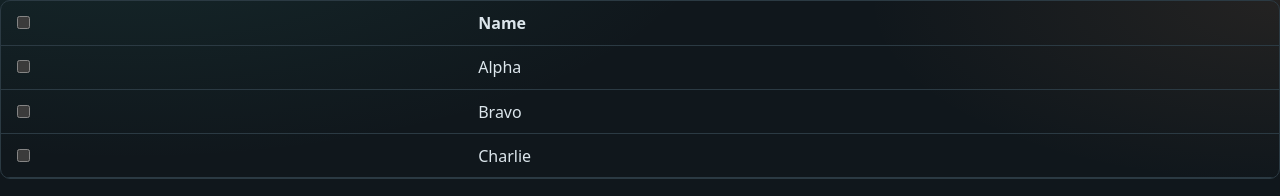
Test: DataTable › selects every visible row from the header checkbox
The width and height of the screenshot is (1280, 196).
Click the 1st checkbox named "Select all rows" at (24, 22), box 17,16 -> 30,29
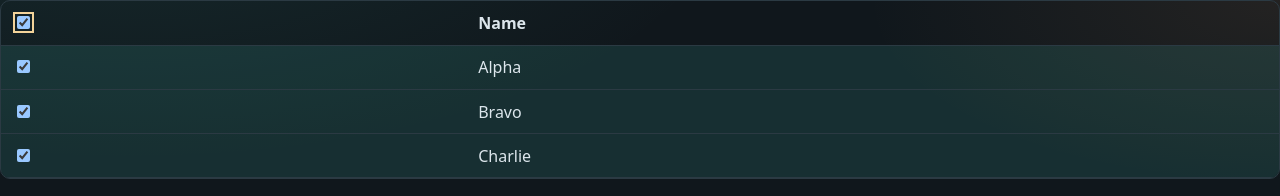
Check: the checkbox named "Select a" in the row of "Alpha" is checked, box 17,60 -> 30,73
Check: the checkbox named "Select c" in the row of "Charlie" is checked, box 17,148 -> 30,162
